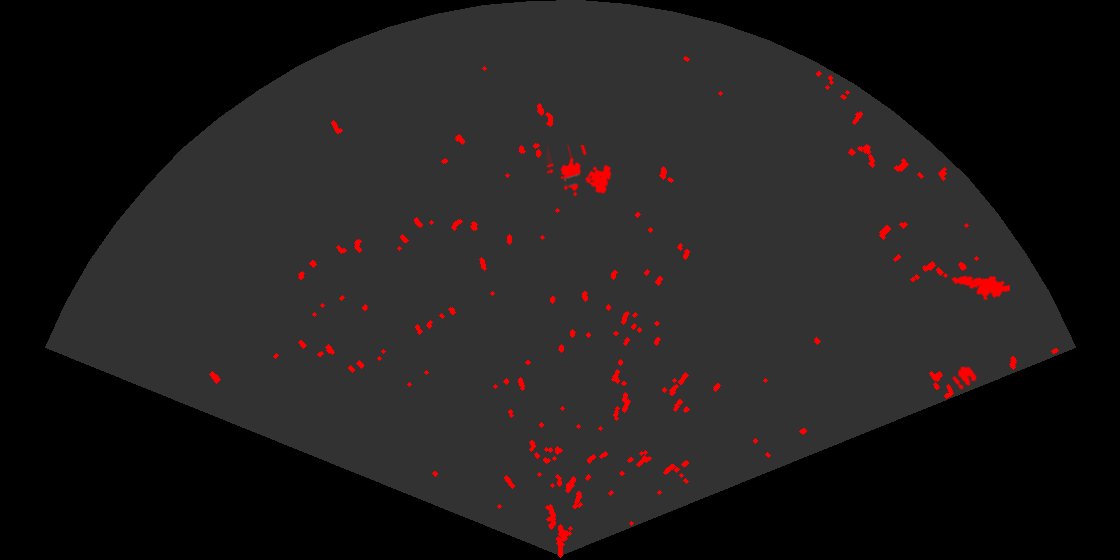ball: (951, 365, 978, 391)
cage: (547, 145, 613, 198)
frogman: (950, 274, 1010, 302)
